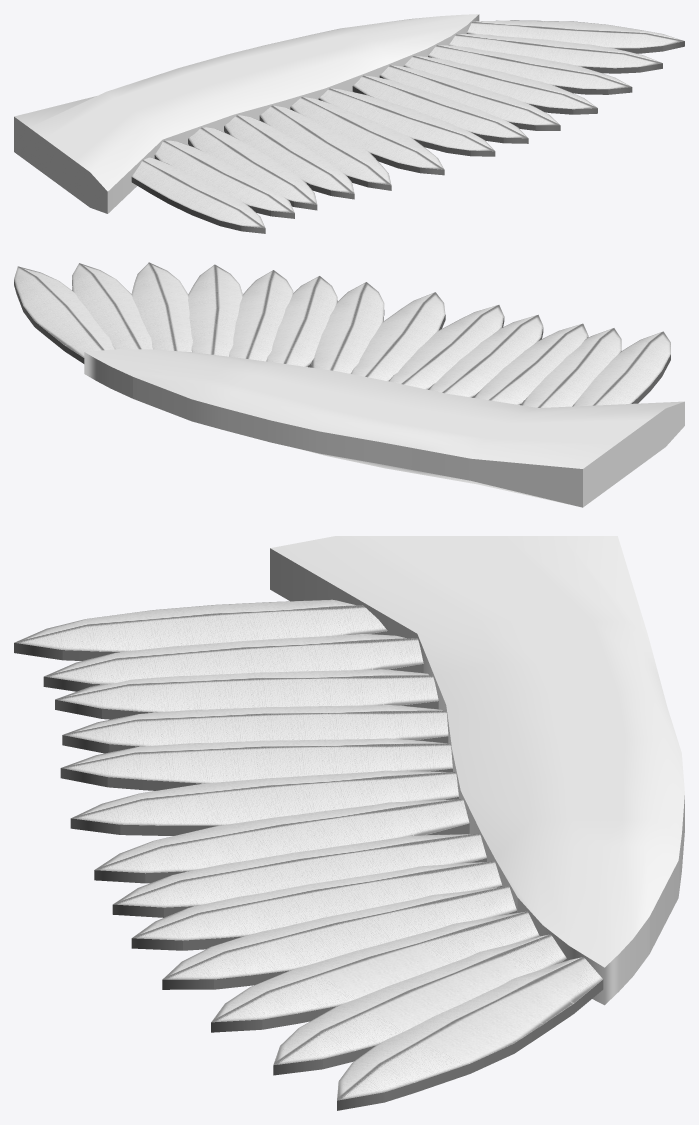
The model's file is Wing.fbx.
The picture shows the model from 3 angles, top to bottom: view 1: azimuth 30°, elevation 25°; view 2: azimuth 150°, elevation 25°; view 3: azimuth 270°, elevation 25°; orthographic projection. The views are drawn at different scales.
Parts seen in each view (by area): view 1: pCube15; view 2: pCube15; view 3: pCube15.
Part boxes in pixels (x1=…): pCube15: x1=14, y1=14, x2=684, y2=233; pCube15: x1=14, y1=262, x2=684, y2=507; pCube15: x1=14, y1=536, x2=684, y2=1110.
Bounding box in the file's own units: 1.75 × 0.1 × 0.9243.
Materials: 2 (2 with a texture image).
